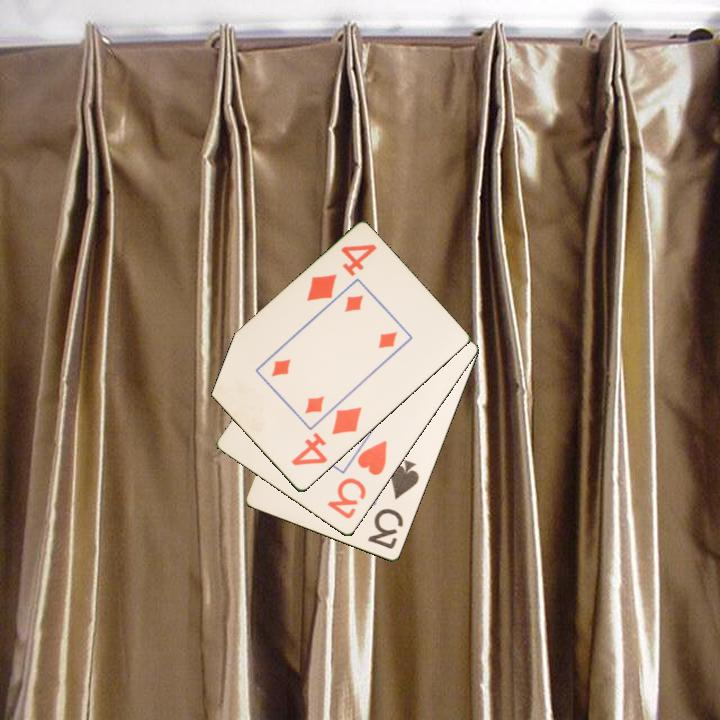3h: (324, 437, 390, 522)
3s: (364, 456, 422, 553)
4d: (288, 404, 365, 469), (303, 240, 380, 305)
